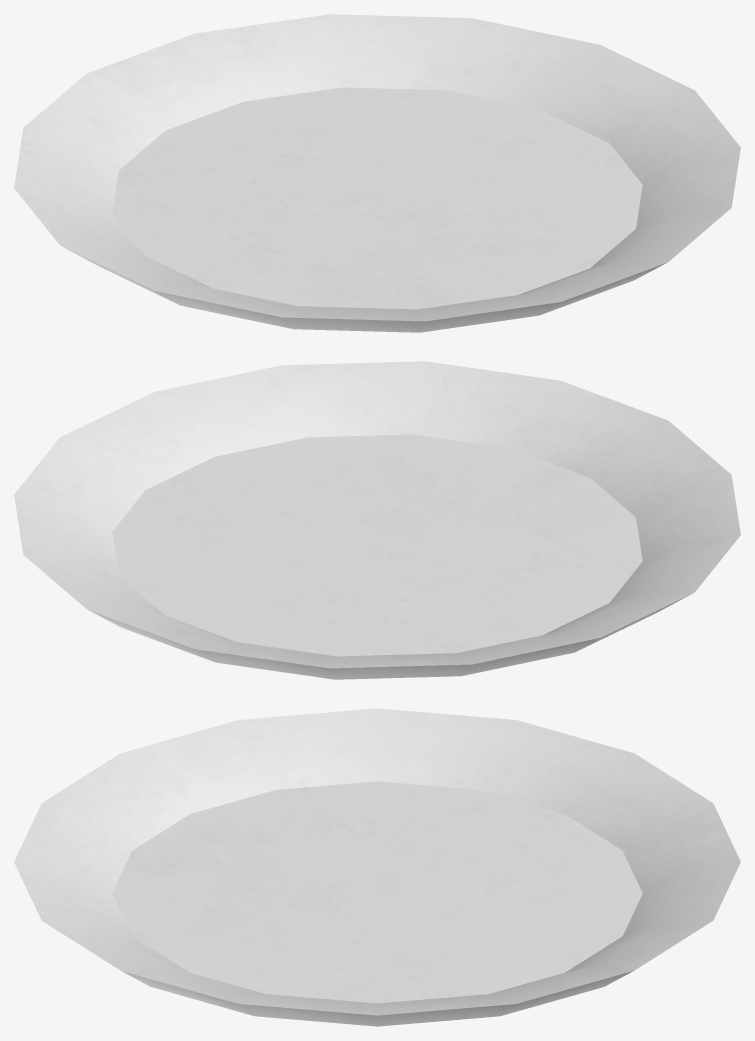
File: PlateSmall.fbx
The picture shows the model from 3 angles, top to bottom: view 1: azimuth 30°, elevation 25°; view 2: azimuth 150°, elevation 25°; view 3: azimuth 270°, elevation 25°; orthographic projection.
Visible parts, largest first — view 1: PlateSmall.001; view 2: PlateSmall.001; view 3: PlateSmall.001.
Part boxes in pixels (left/top/right/bottom): PlateSmall.001: left=14, top=14, right=740, bottom=332; PlateSmall.001: left=14, top=361, right=740, bottom=679; PlateSmall.001: left=14, top=708, right=740, bottom=1026.
Size of the model in its own units: 0.3399 by 0.3399 by 0.0277.
